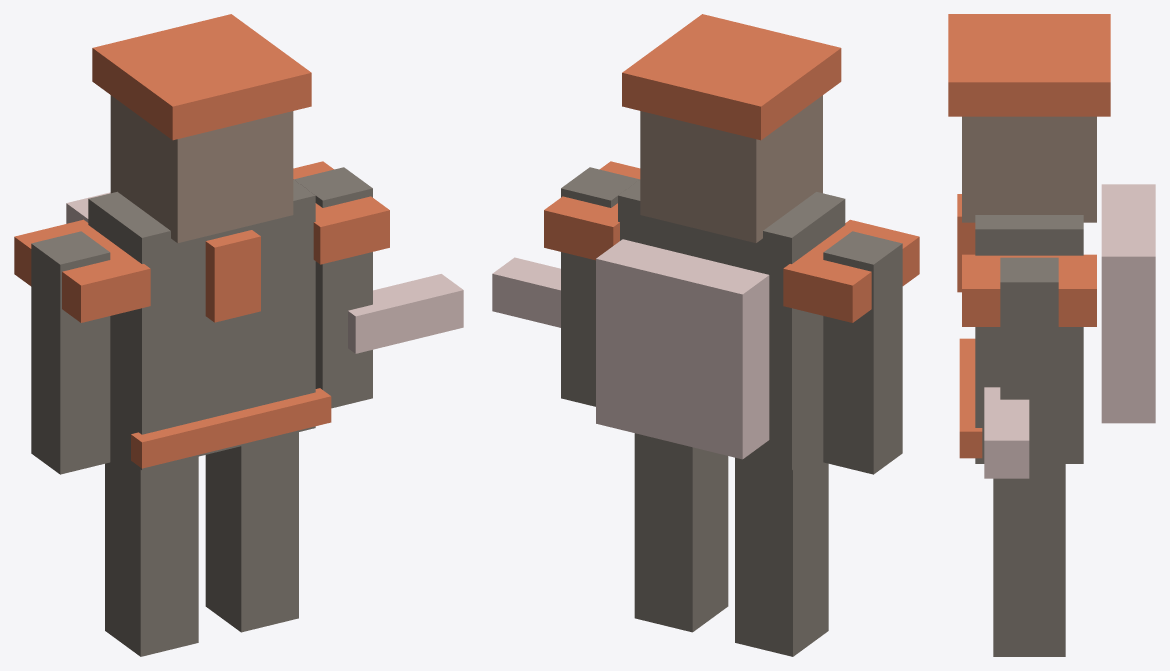
Rendered from 14_vexa_whispercoil_engineer_near_couplet.glb.
3 views of the same model, side by side, from view 1: azimuth 30°, elevation 25°; view 2: azimuth 150°, elevation 25°; view 3: azimuth 270°, elevation 25° (orthographic).
Visible parts, largest first — view 1: Vexa Whispercoil, Engineer near Couplet; view 2: Vexa Whispercoil, Engineer near Couplet; view 3: Vexa Whispercoil, Engineer near Couplet.
Boxes of the visible parts, box(x1,y1,x2,y2) form: Vexa Whispercoil, Engineer near Couplet: box(14, 14, 463, 656); Vexa Whispercoil, Engineer near Couplet: box(492, 14, 919, 656); Vexa Whispercoil, Engineer near Couplet: box(948, 14, 1155, 656).
Size of the model in its own units: 1.06 by 1.44 by 0.4752.
